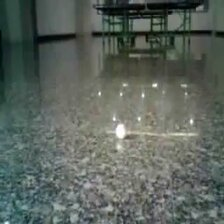w: (115, 122, 127, 139)
